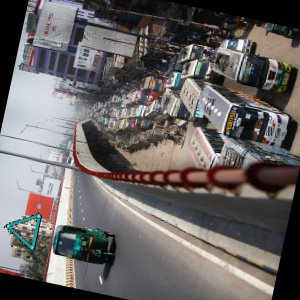triangle: (5, 211, 43, 254)
